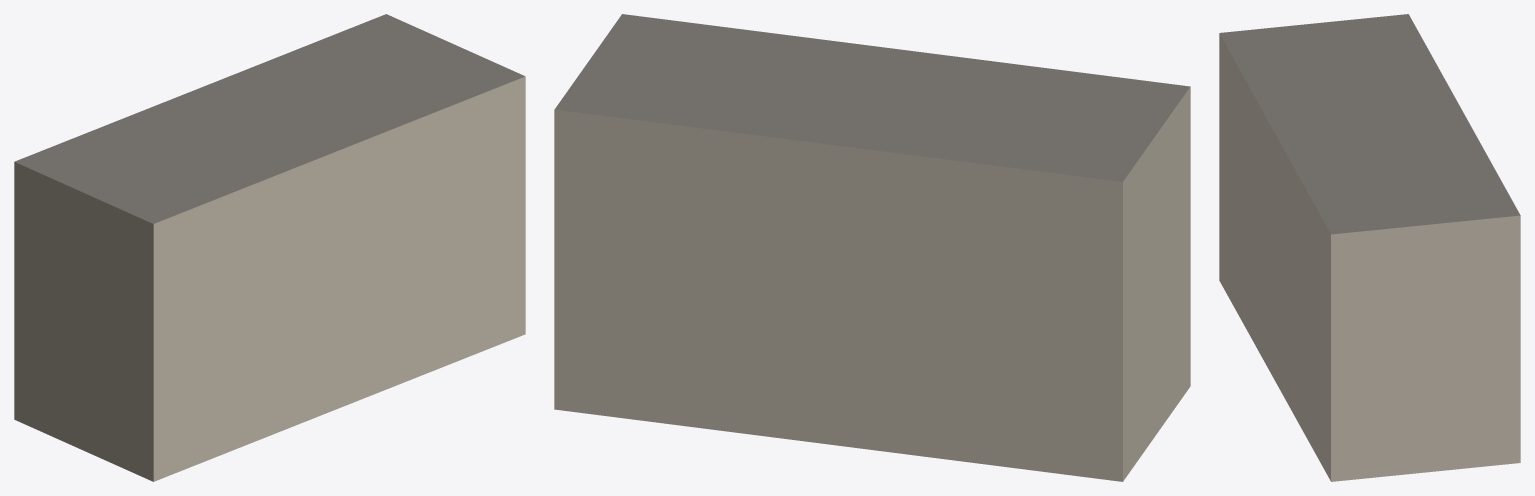
3 renders of one model, left to right at view 1: azimuth 30°, elevation 25°; view 2: azimuth 150°, elevation 25°; view 3: azimuth 270°, elevation 25°, orthographic. The views are drawn at different scales.
Visible parts, largest first — view 1: HP-w859488679; view 2: HP-w859488679; view 3: HP-w859488679.
Part boxes in pixels (left/top/right/bottom): HP-w859488679: left=14, top=14, right=525, bottom=481; HP-w859488679: left=554, top=14, right=1190, bottom=481; HP-w859488679: left=1219, top=14, right=1520, bottom=481.
Bounding box in the file's own units: 34.4 × 18 × 19.87.
